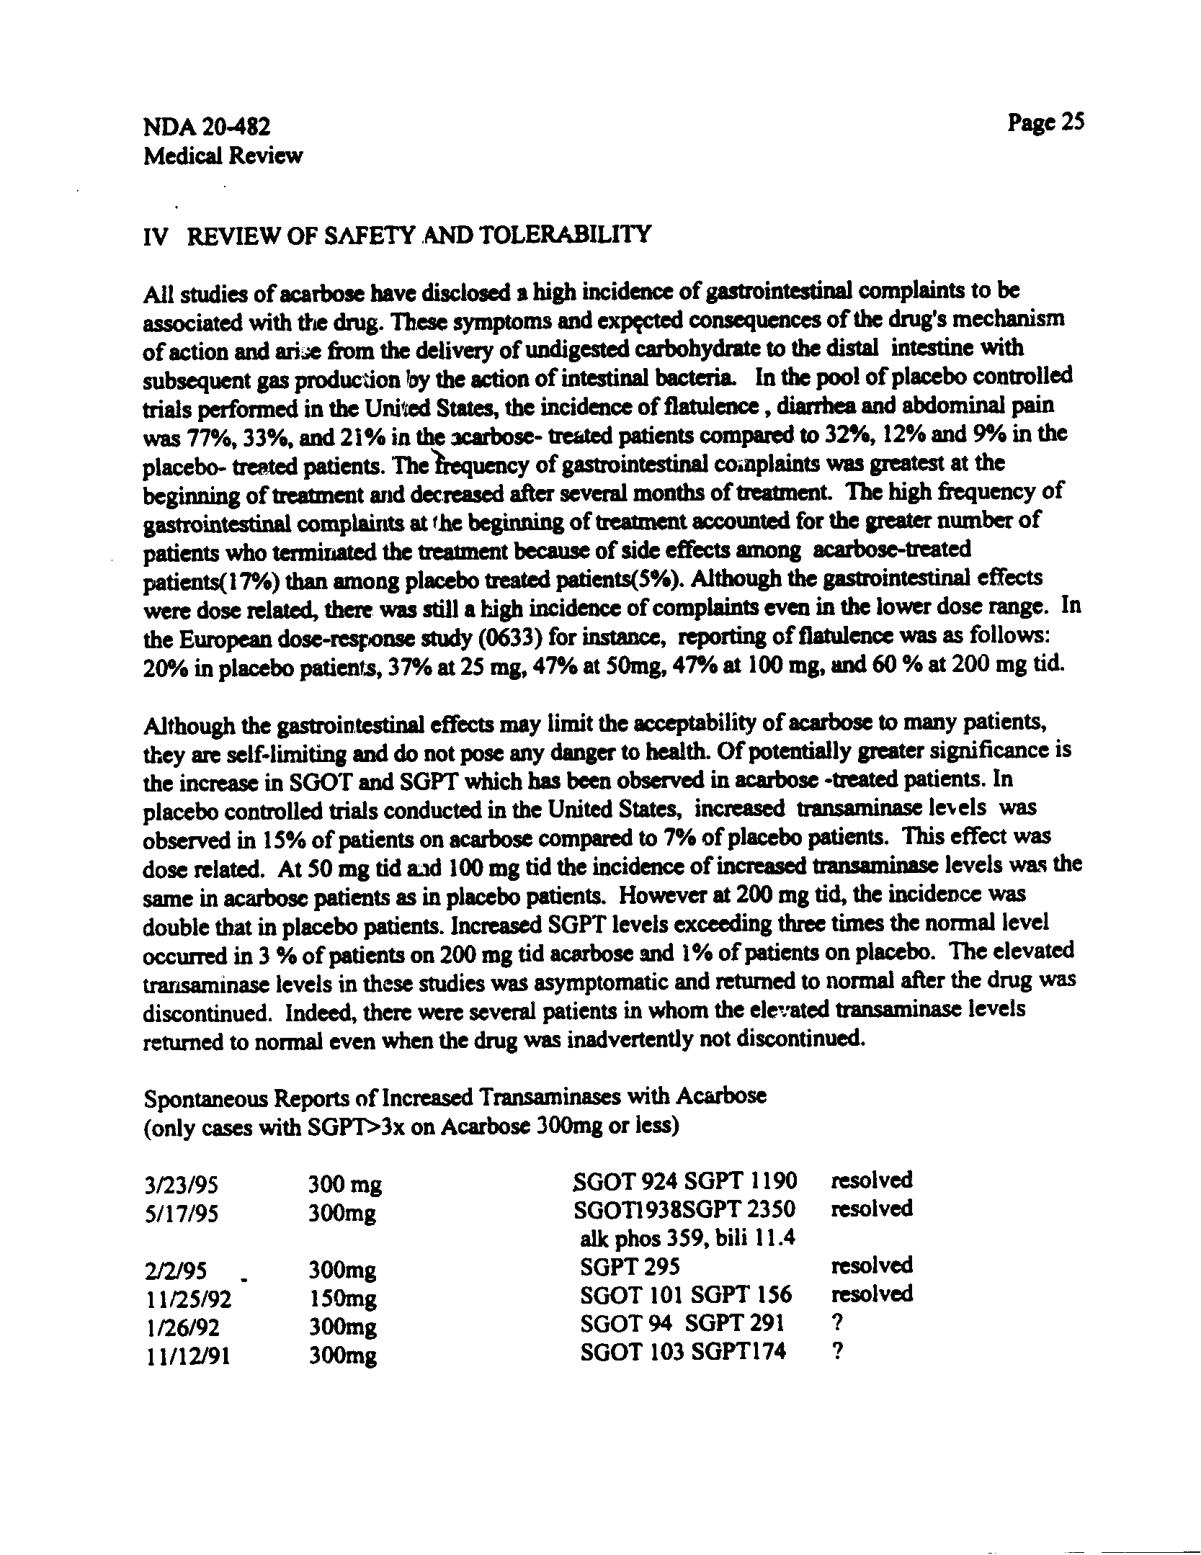nolines: (143, 1172, 918, 1368)
